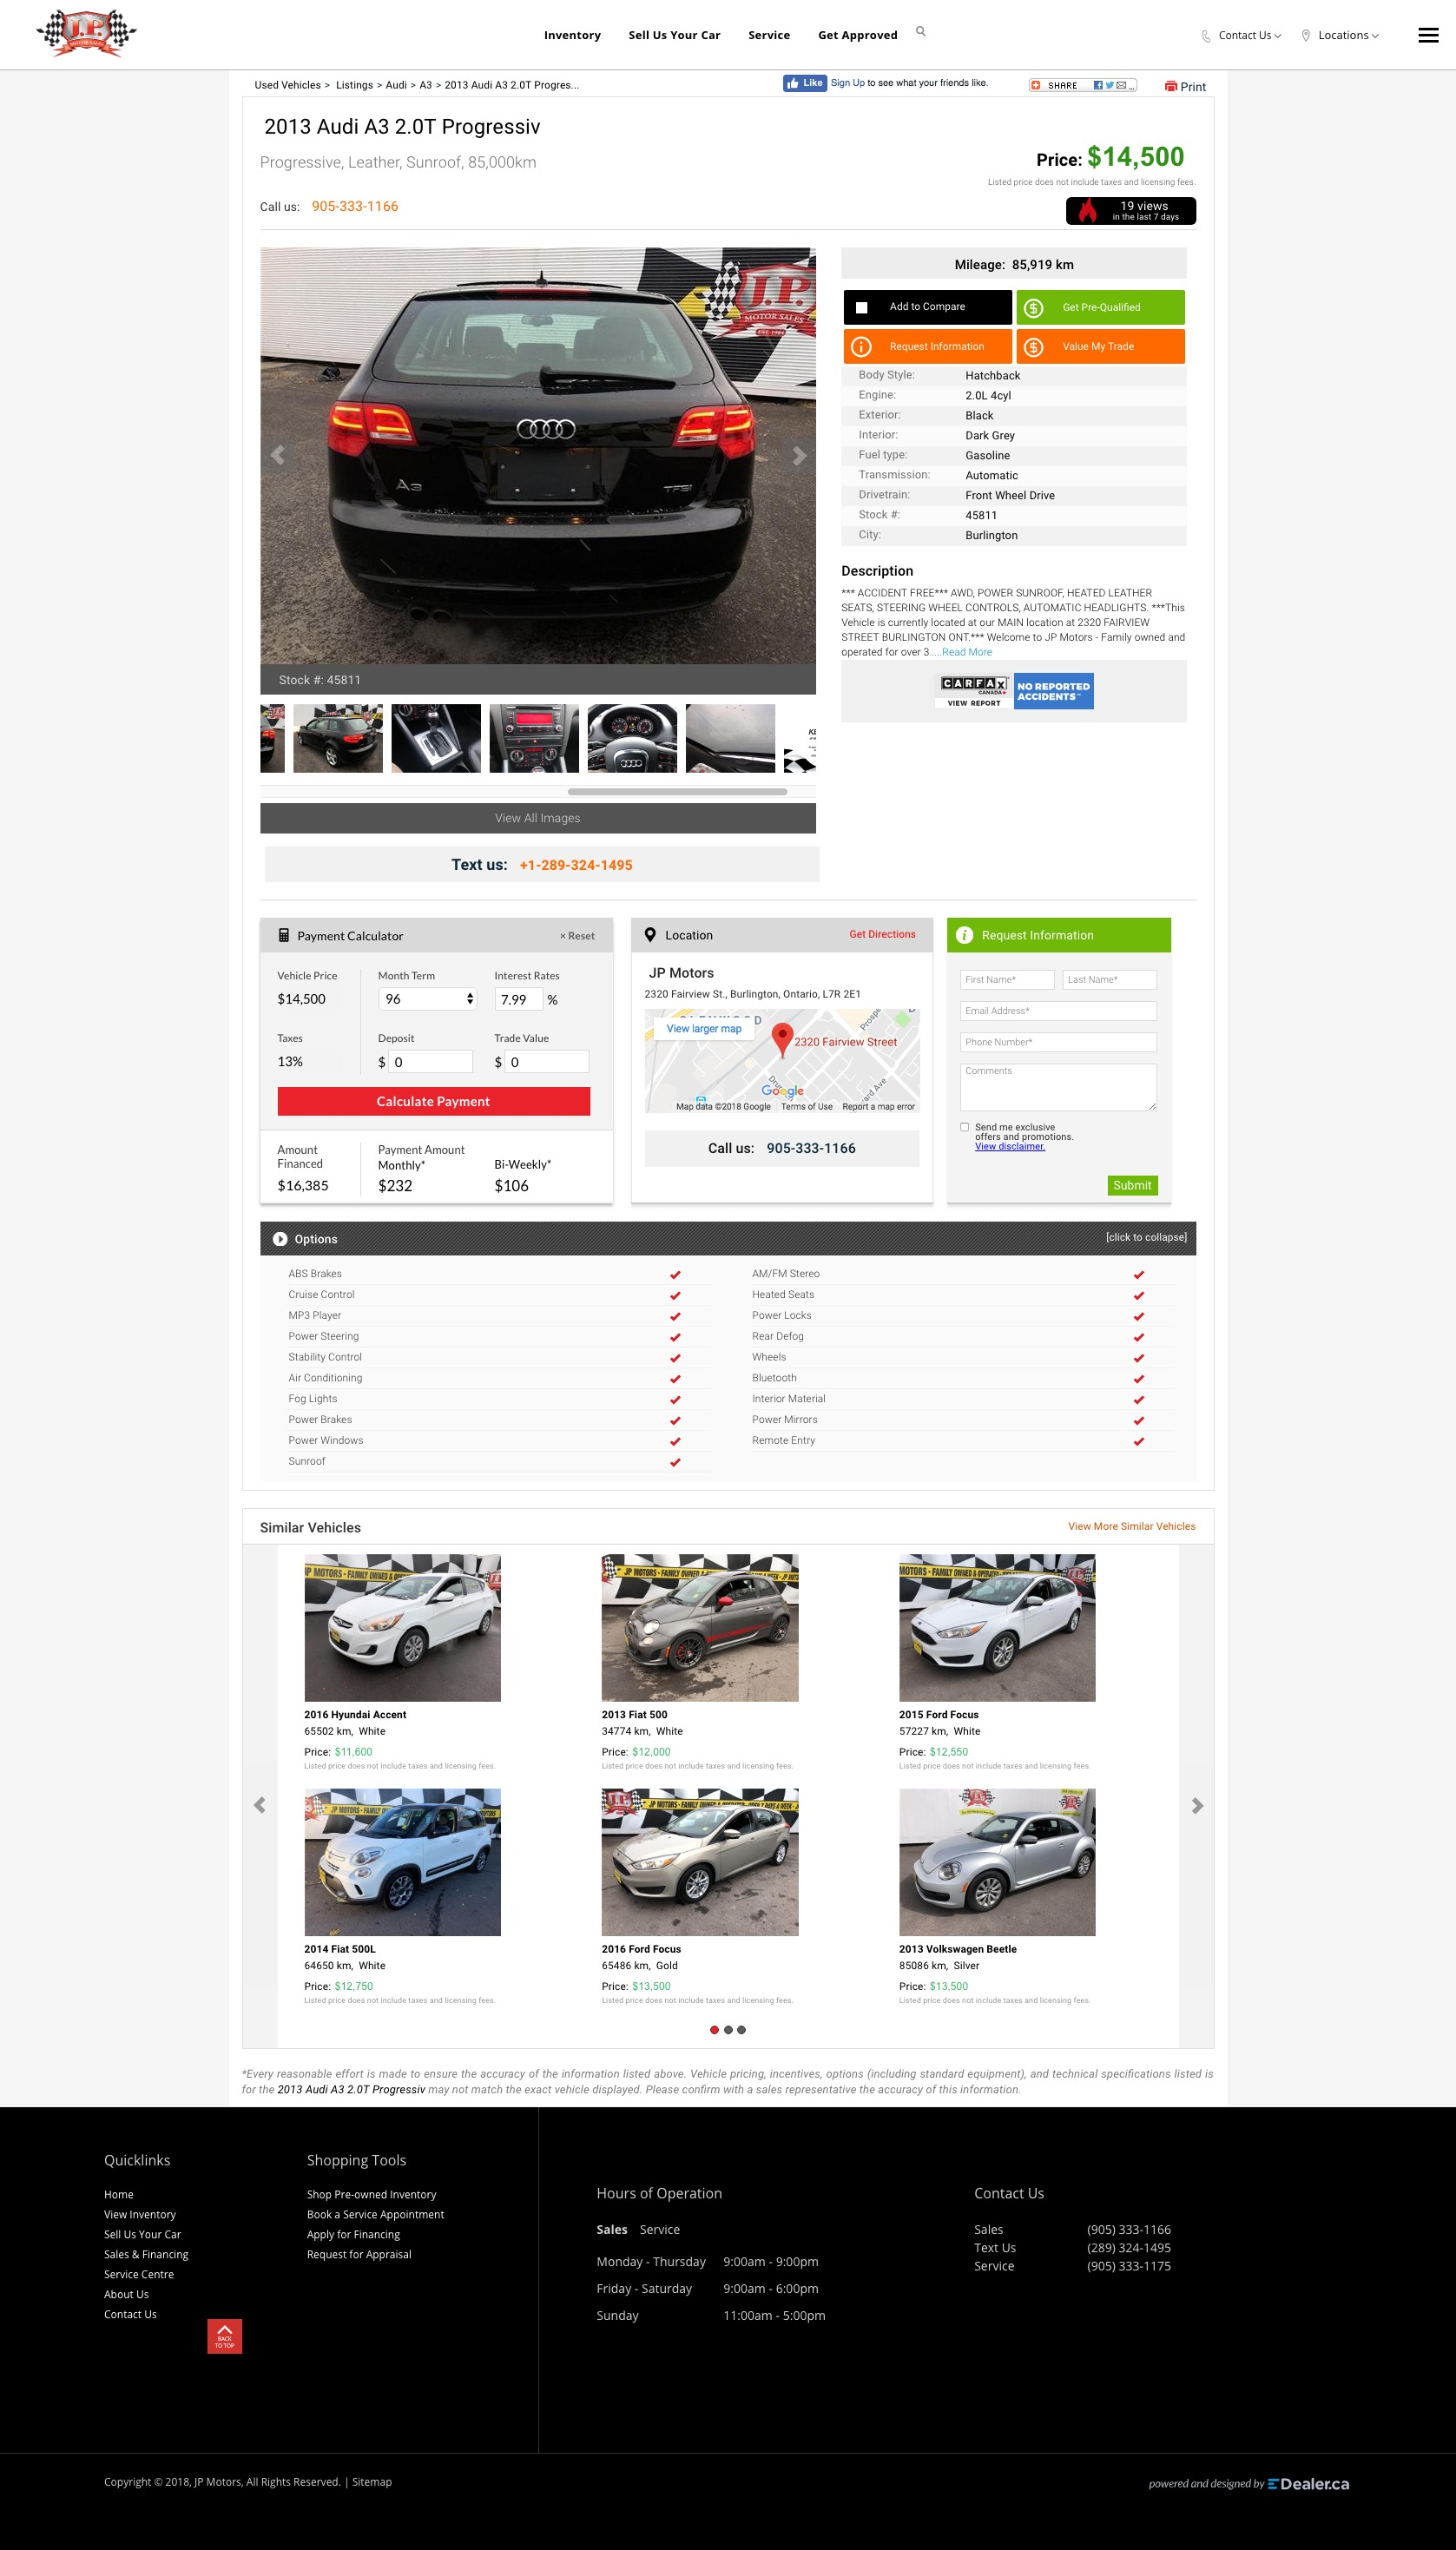car: (780, 438, 818, 475)
